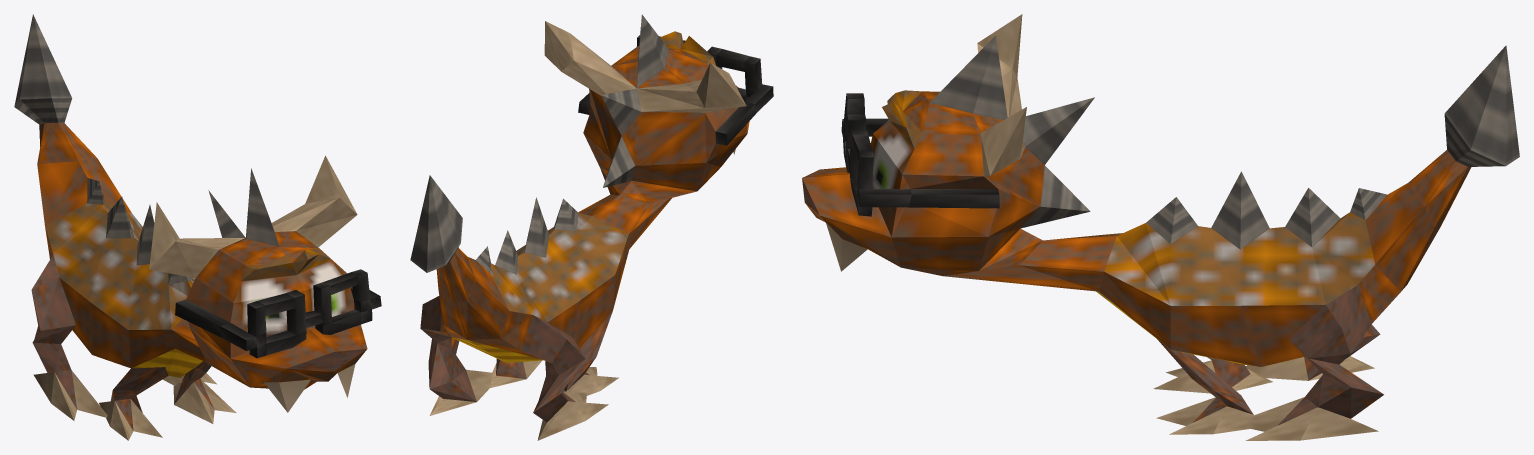
The model's file is dragon_0.obj.
The picture shows the model from 3 angles, left to right: view 1: azimuth 30°, elevation 25°; view 2: azimuth 150°, elevation 25°; view 3: azimuth 270°, elevation 25°; orthographic projection. The views are drawn at different scales.
Parts seen in each view (by area): view 1: Cube.001_Cube.002; view 2: Cube.001_Cube.002; view 3: Cube.001_Cube.002.
Part boxes in pixels (x1,y1,x2,y2): Cube.001_Cube.002: (14, 14, 381, 440); Cube.001_Cube.002: (410, 14, 773, 440); Cube.001_Cube.002: (802, 14, 1519, 440).
Size of the model in its own units: 3.01 by 4.32 by 7.69.
